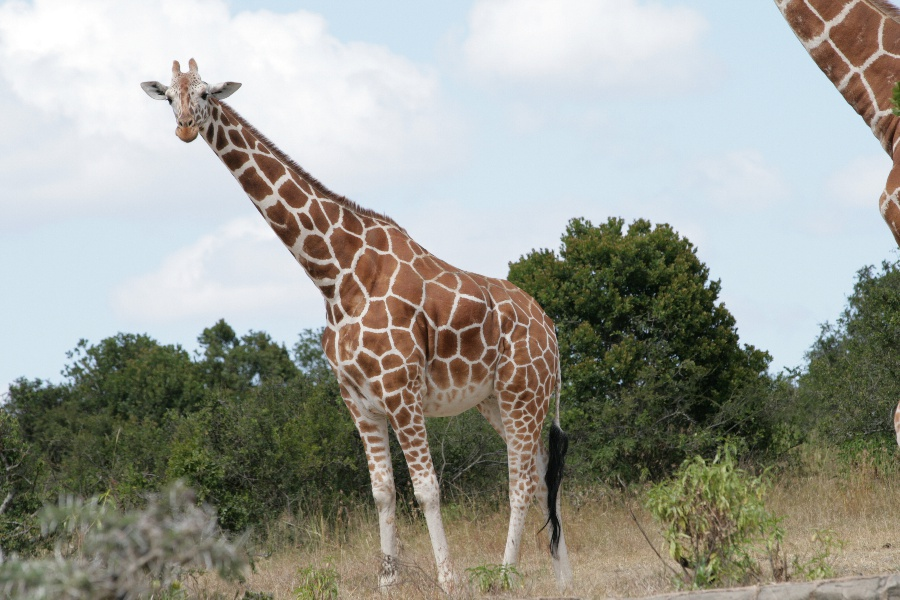giraffe: (128, 48, 582, 597), (765, 0, 899, 257)
